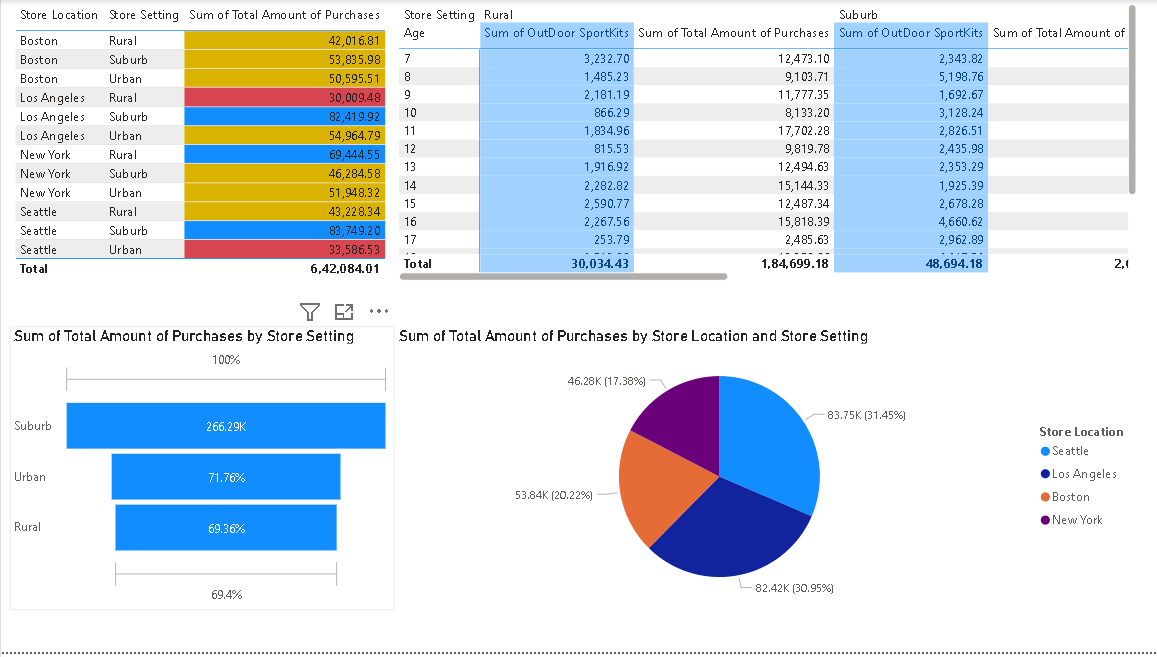

What the dashboard file says about the page in this screenshot:
{"tool":"powerbi","page":{"name":"Page 1","canvas":[1280,720],"ordinal":0},"visuals":[{"type":"tableEx","fields":{"Values":["Student Survey.Store Location","Student Survey.Store Setting","Sum(Student Survey.Total Amount of Purchases)"]},"box":[9.7,0,424.9,324.2],"z":0},{"type":"pivotTable","fields":{"Values":["Sum(Student Survey.OutDoor SportKits)","Sum(Student Survey.Total Amount of Purchases)"],"Columns":["Student Survey.Store Setting"],"Rows":["Student Survey.Age"]},"box":[434.6,0,823.6,314.6],"z":1000},{"type":"funnel","fields":{"Y":["Sum(Student Survey.Total Amount of Purchases)"],"Category":["Student Survey.Store Setting"]},"box":[9.7,360.1,424.9,313.2],"z":2000},{"type":"pieChart","fields":{"Y":["Sum(Student Survey.Total Amount of Purchases)"],"Category":["Student Survey.Store Location"],"Series":["Student Survey.Store Setting"]},"box":[435,360,824,313],"z":3000}]}

Visuals, with their boxes in screenshot pixels (x1, y1, x2, y2), scaled from the page's 1280x720 canvas onto the 1157x657 screenshot:
tableEx - Student Survey.Store Location x Student Survey.Store Setting: 9 0 393 296
pivotTable - Sum(Student Survey.OutDoor SportKits) x Sum(Student Survey.Total Amount of Purchases): 393 0 1137 287
funnel - Sum(Student Survey.Total Amount of Purchases) x Student Survey.Store Setting: 9 329 393 614
pieChart - Sum(Student Survey.Total Amount of Purchases) x Student Survey.Store Location: 393 328 1138 614
